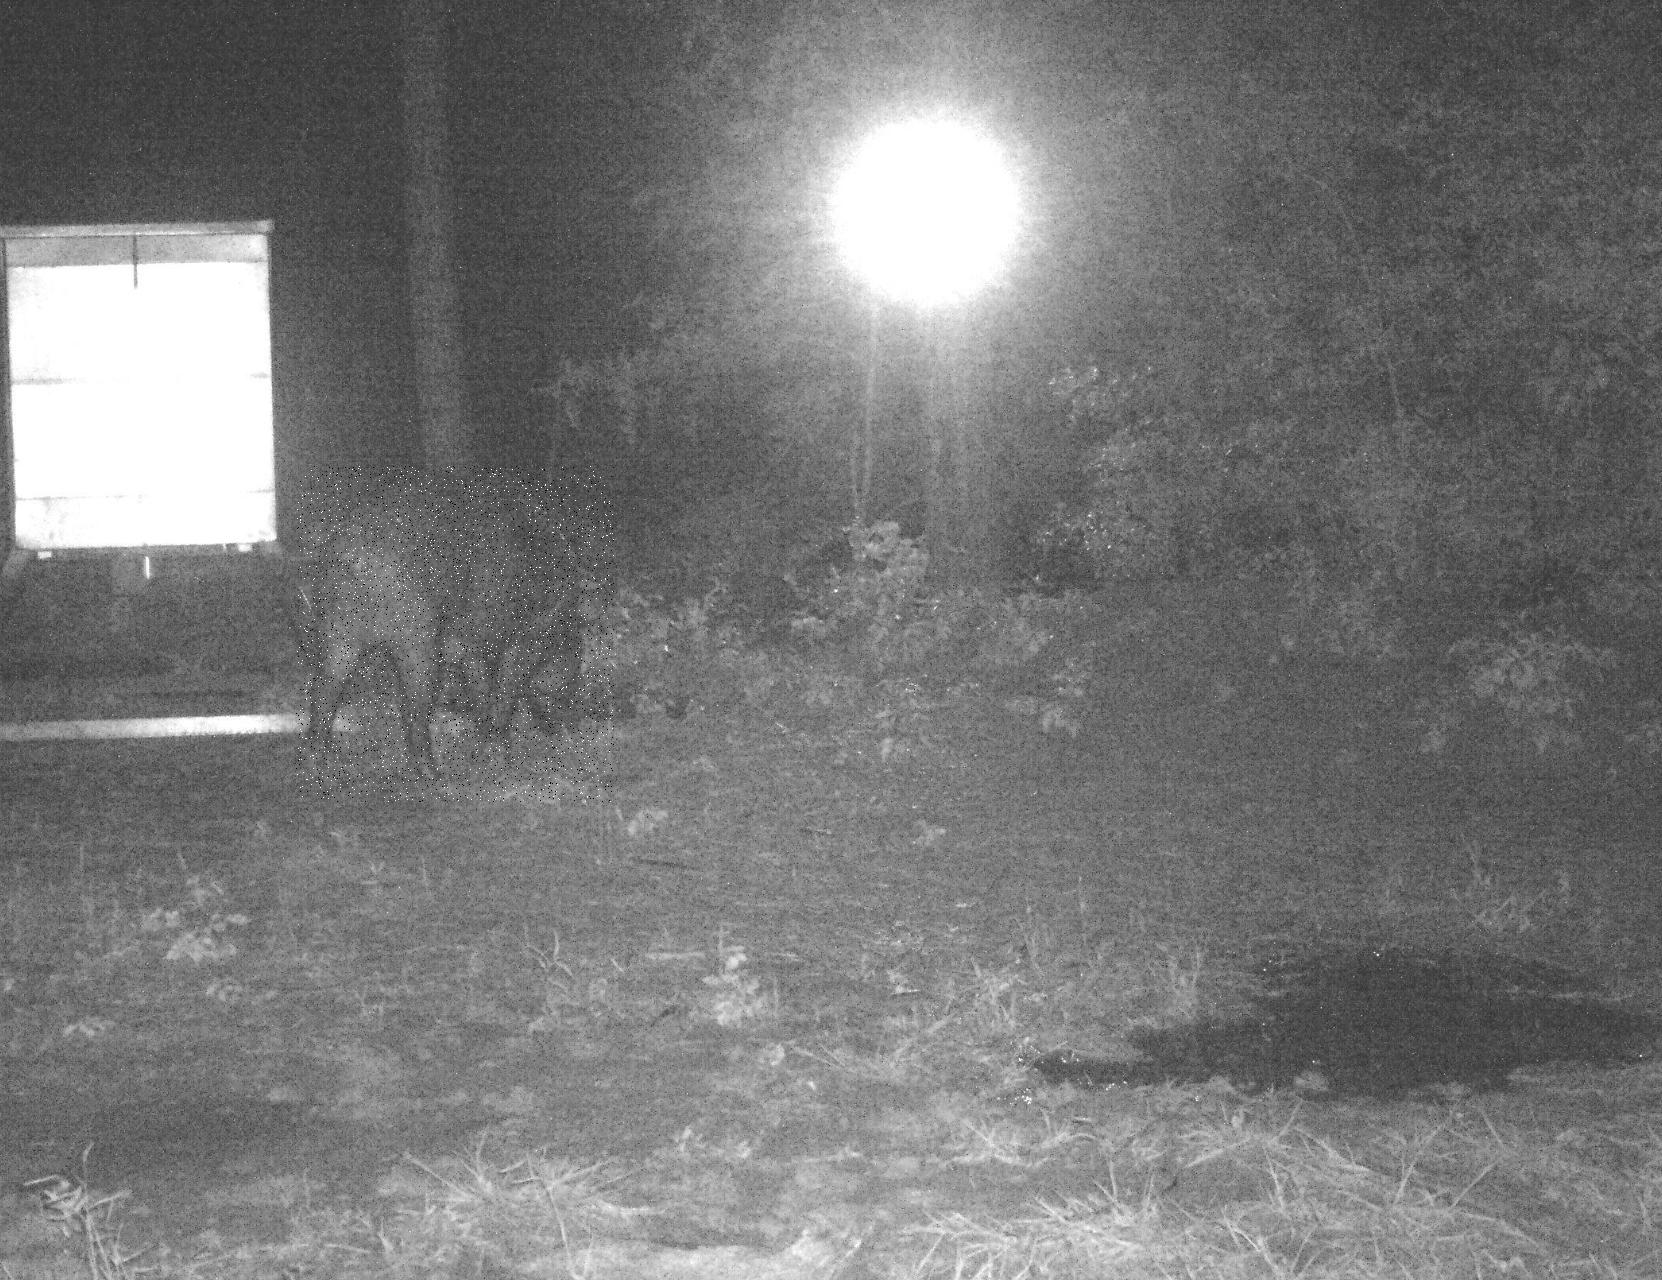Hog: (296, 466, 614, 802)
